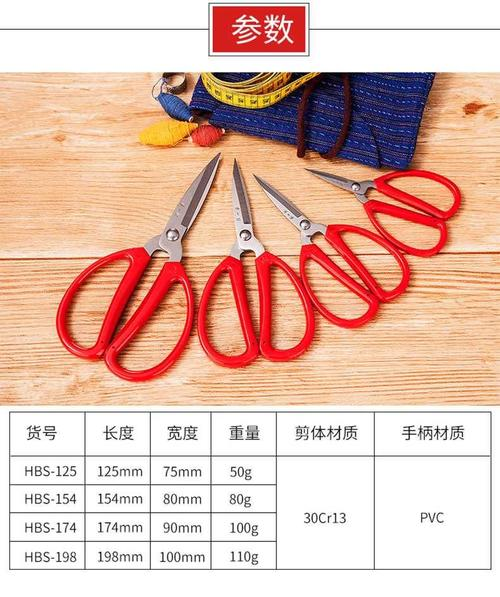scissor: (57, 151, 222, 383), (252, 172, 412, 328), (198, 156, 316, 364), (304, 166, 463, 258)
